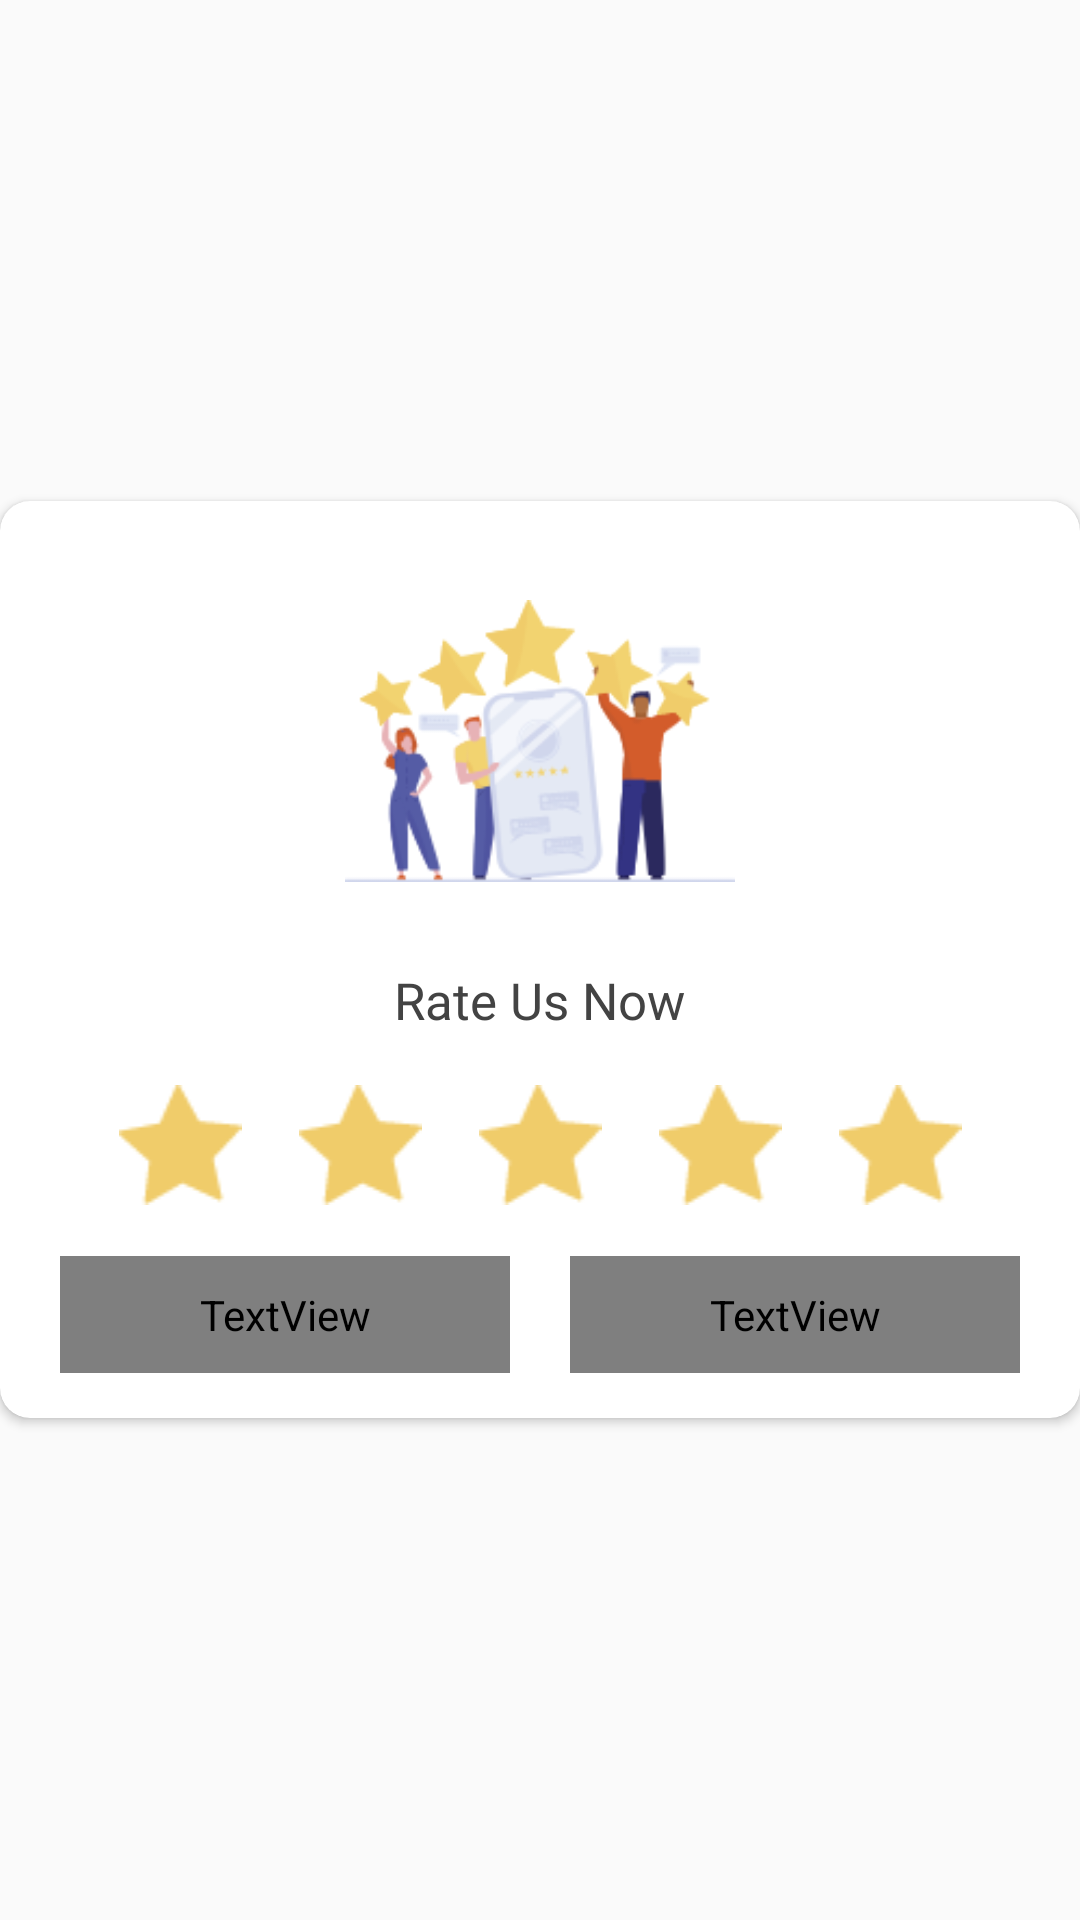

Screen size 1080px×1920px. Icon name, then its center in pixels as point (x, y):
star: point (180, 1145), point (360, 1145), point (540, 1145), point (720, 1145), point (900, 1145)
